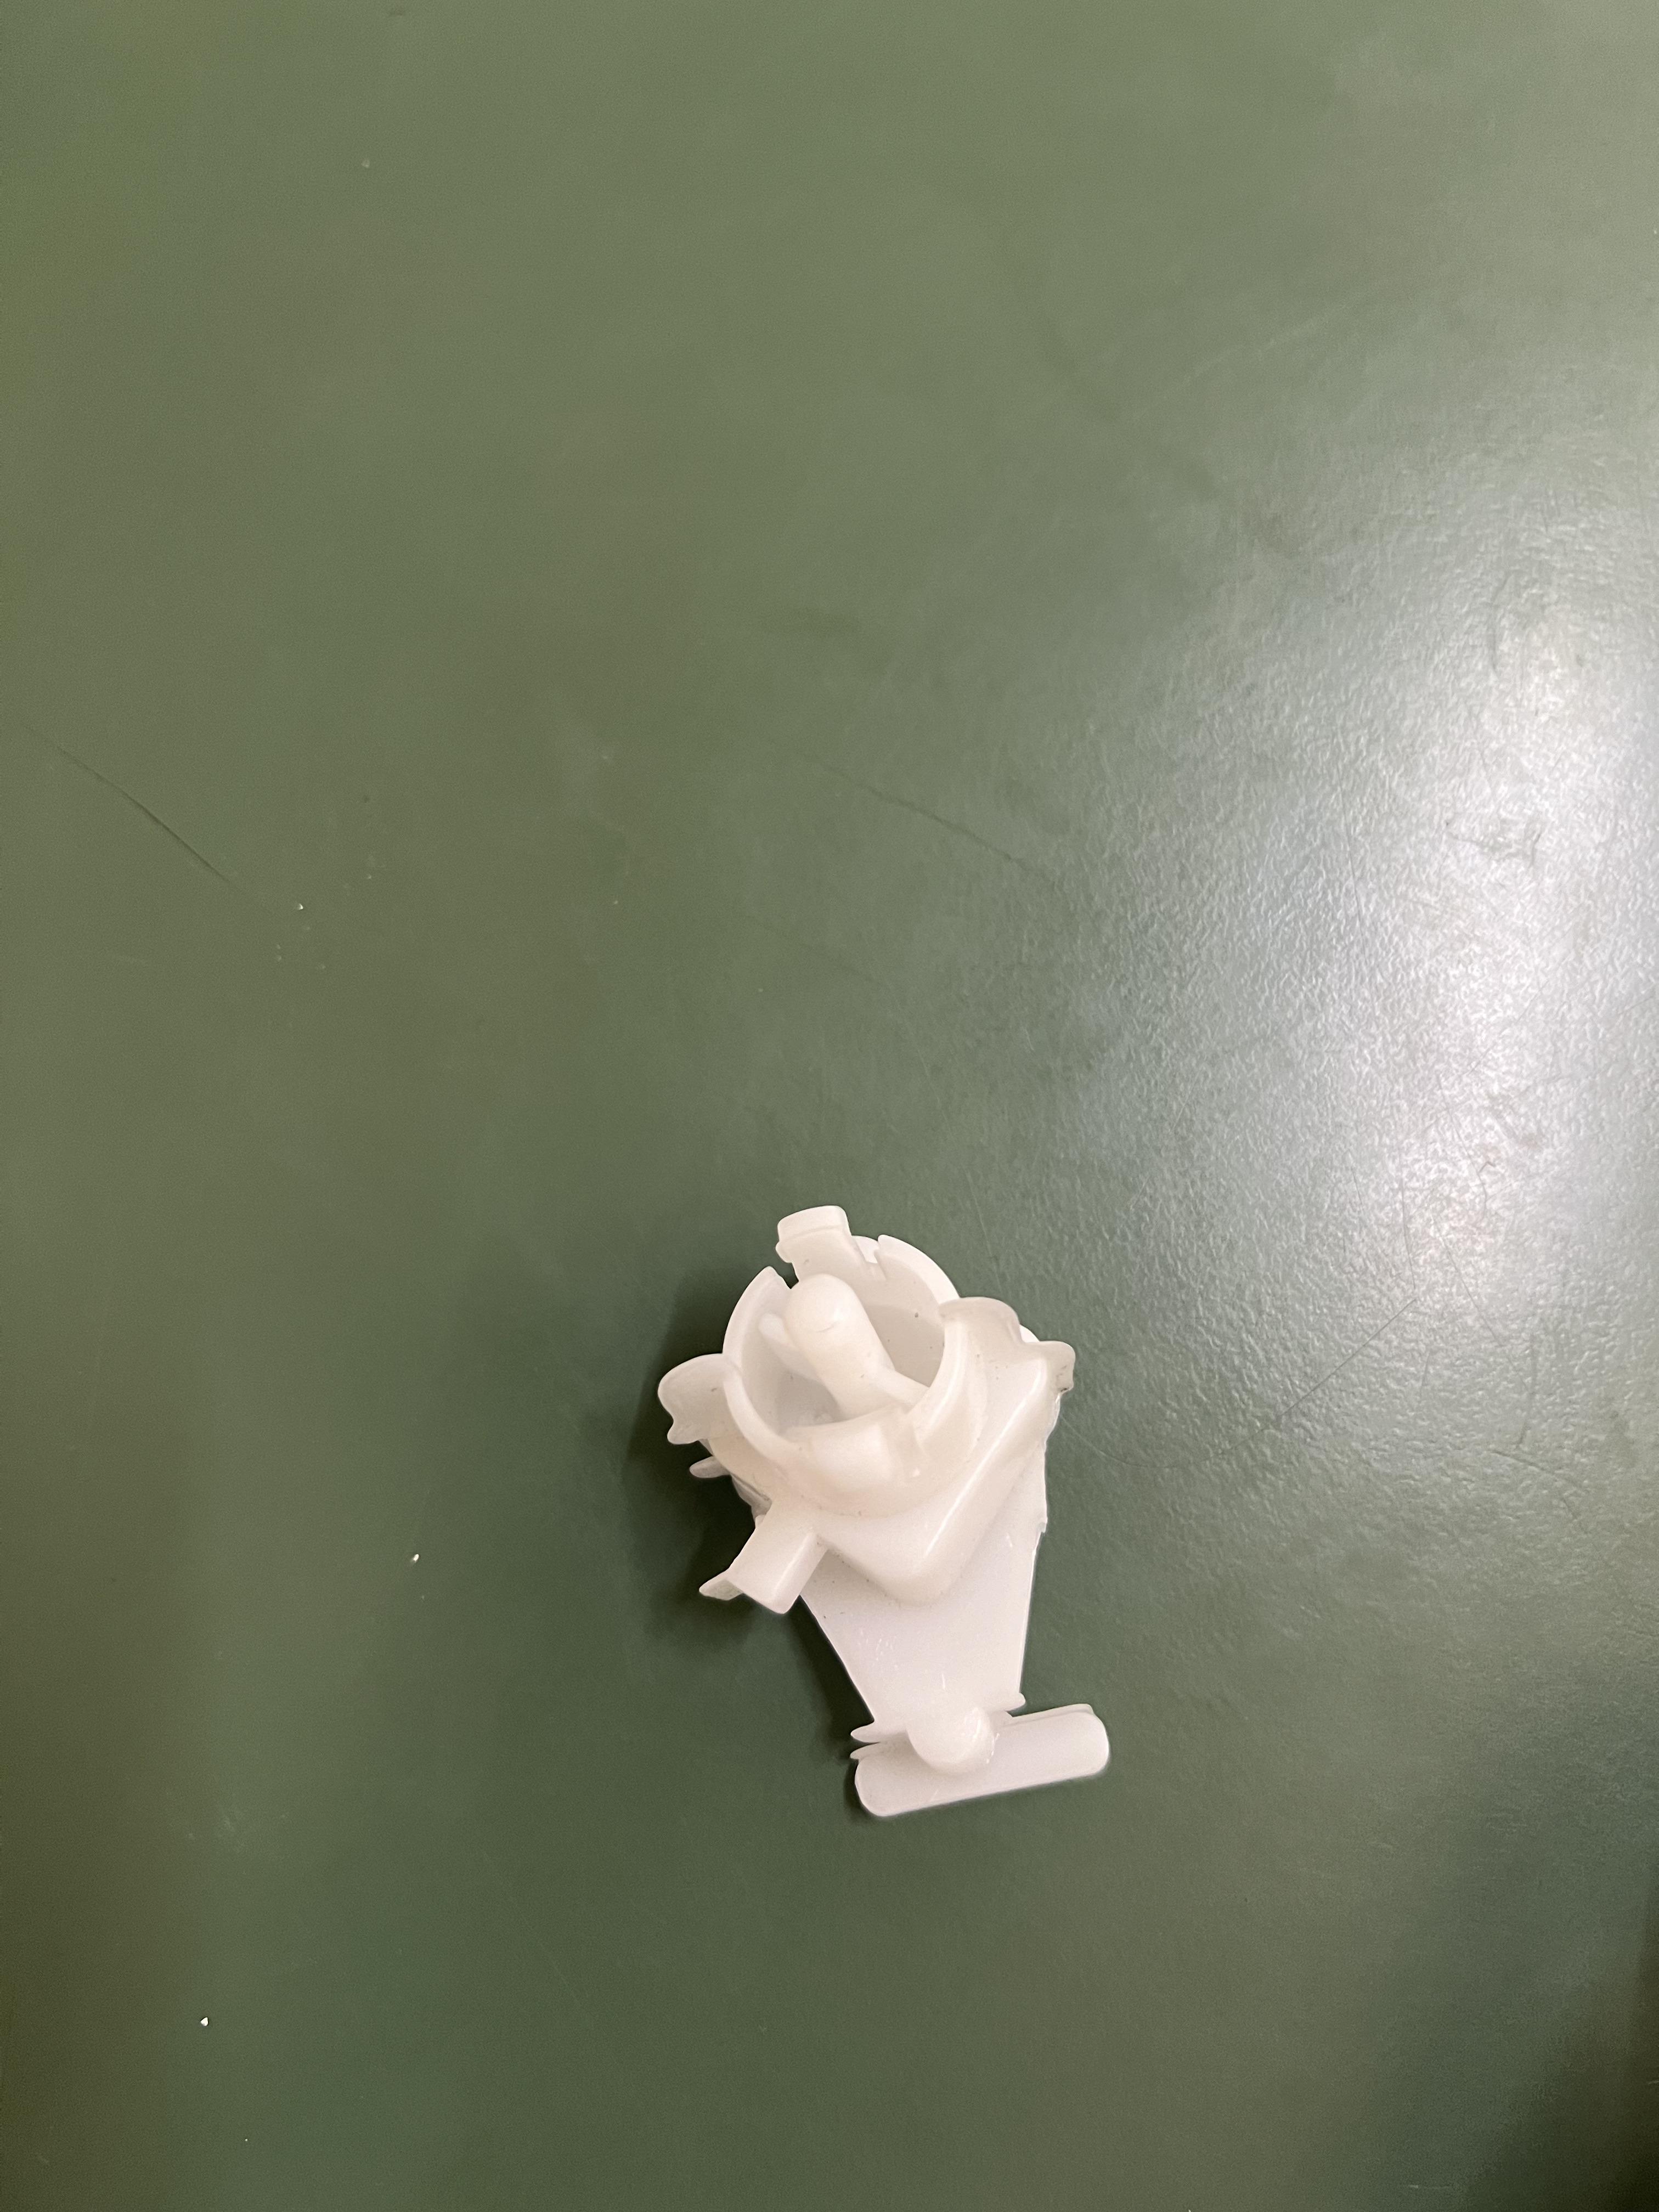drain_lever: (627, 1186, 1148, 1838)
